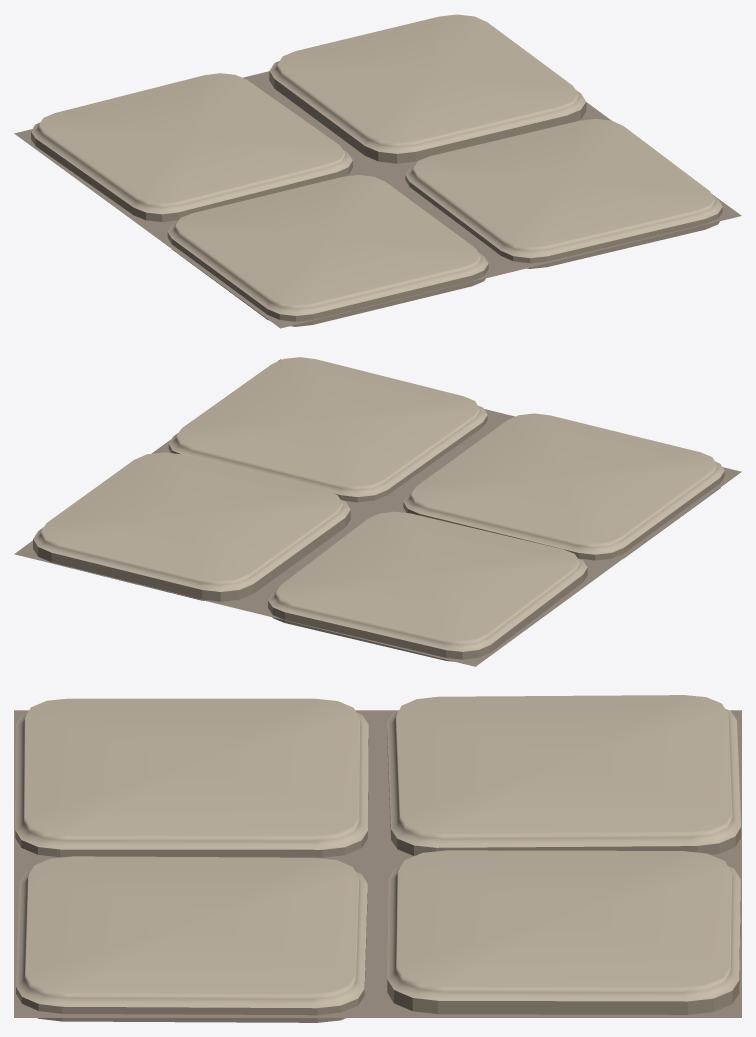
File: master_soft_pavers_03.glb
The picture shows the model from 3 angles, top to bottom: view 1: azimuth 30°, elevation 25°; view 2: azimuth 150°, elevation 25°; view 3: azimuth 270°, elevation 25°; orthographic projection. The views are drawn at different scales.
Visible parts, largest first — view 1: master_soft_pavers_03; view 2: master_soft_pavers_03; view 3: master_soft_pavers_03.
Boxes of the visible parts, x1,y1,x2,y2 form: master_soft_pavers_03: (14,14,741,328); master_soft_pavers_03: (14,357,741,666); master_soft_pavers_03: (14,695,741,1022).
Bounding box in the file's own units: 1.35 × 0.0697 × 1.35.
